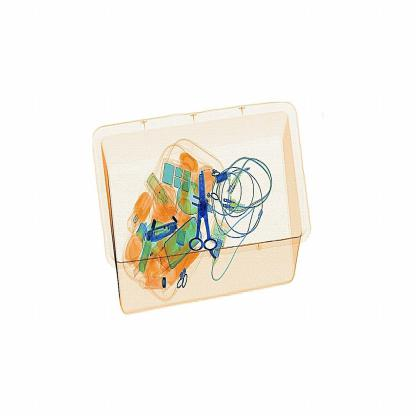gun: (183, 163, 225, 259)
